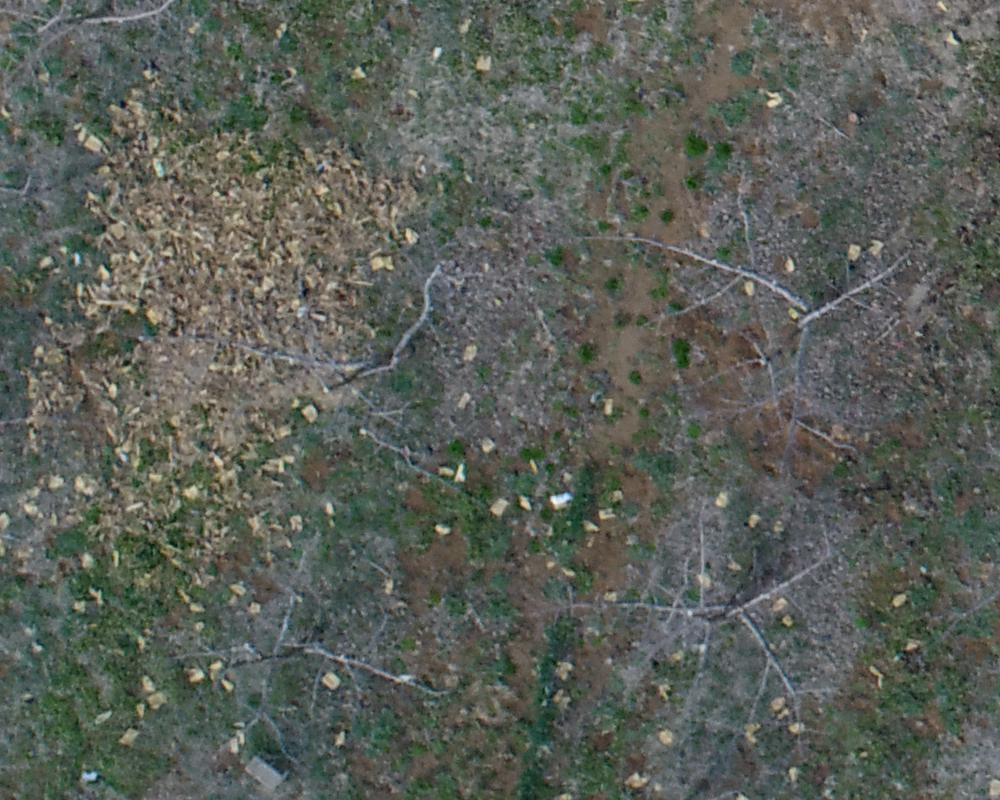apple: (585, 219, 920, 478), (185, 540, 460, 765), (158, 268, 486, 434), (582, 514, 841, 721)
